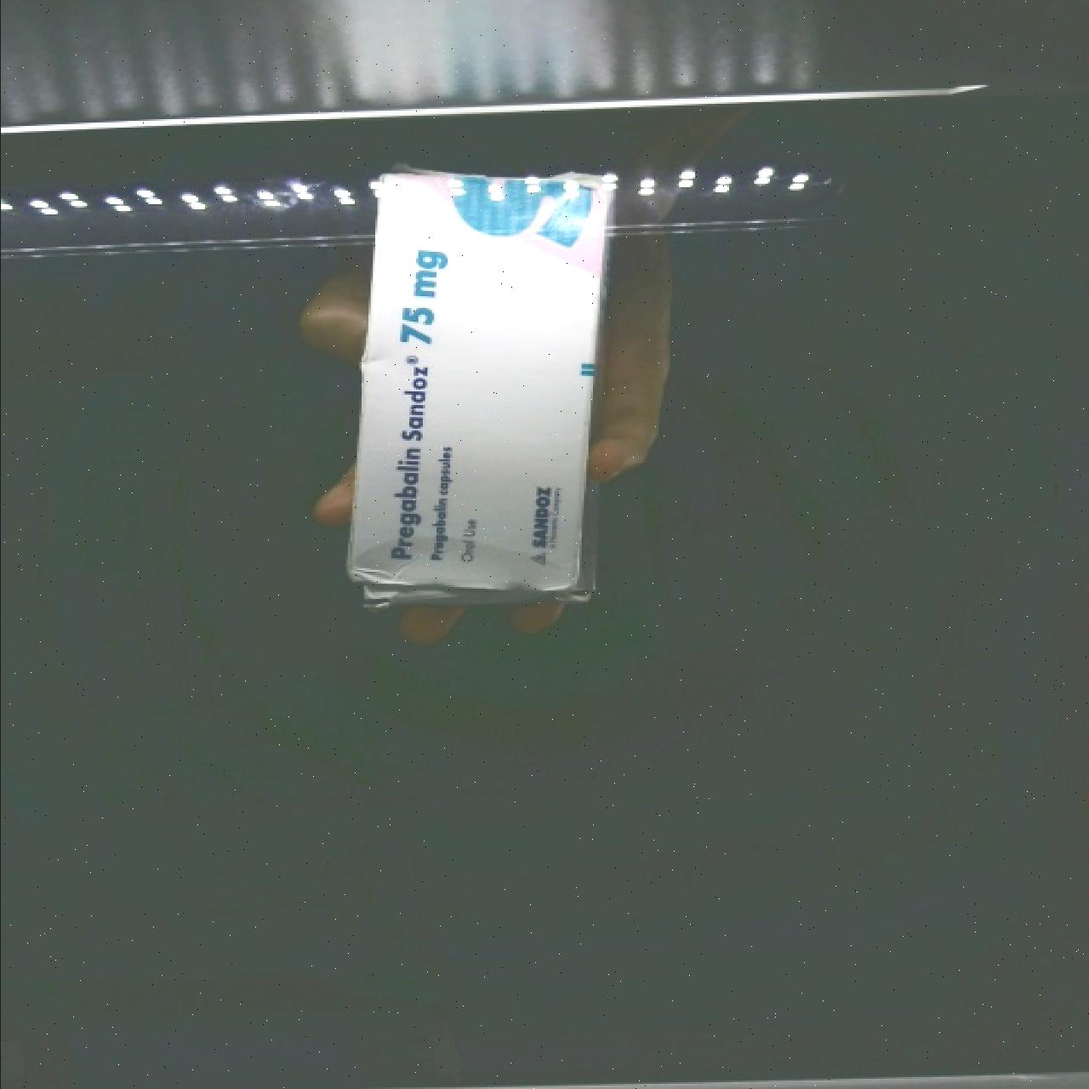medicine_label_obb: (368, 348, 451, 583)
